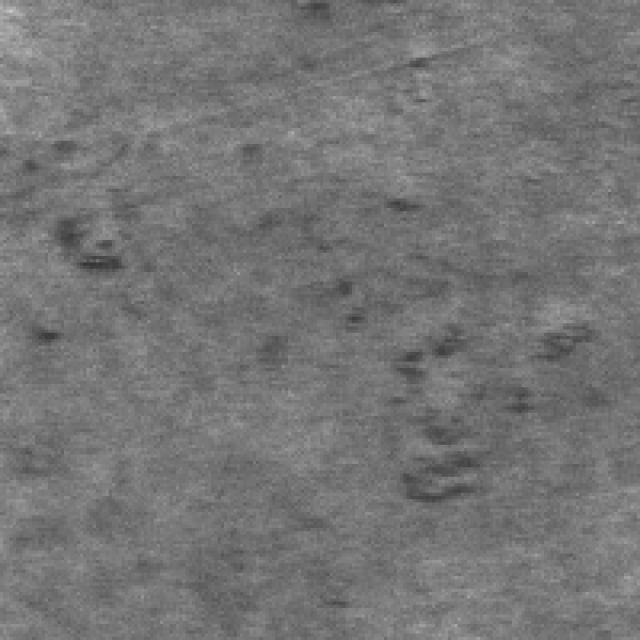rolled-in_scale: (323, 272, 602, 509), (0, 125, 144, 355)
